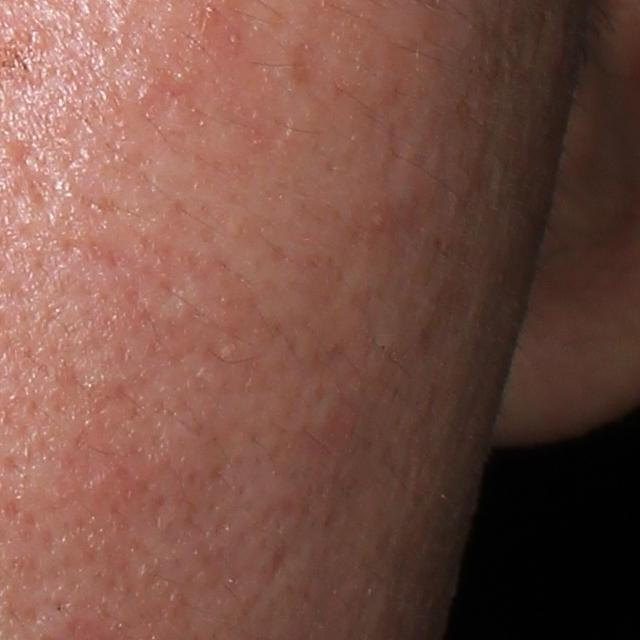atrophic_scar: (7, 140, 62, 214), (421, 280, 478, 346)
